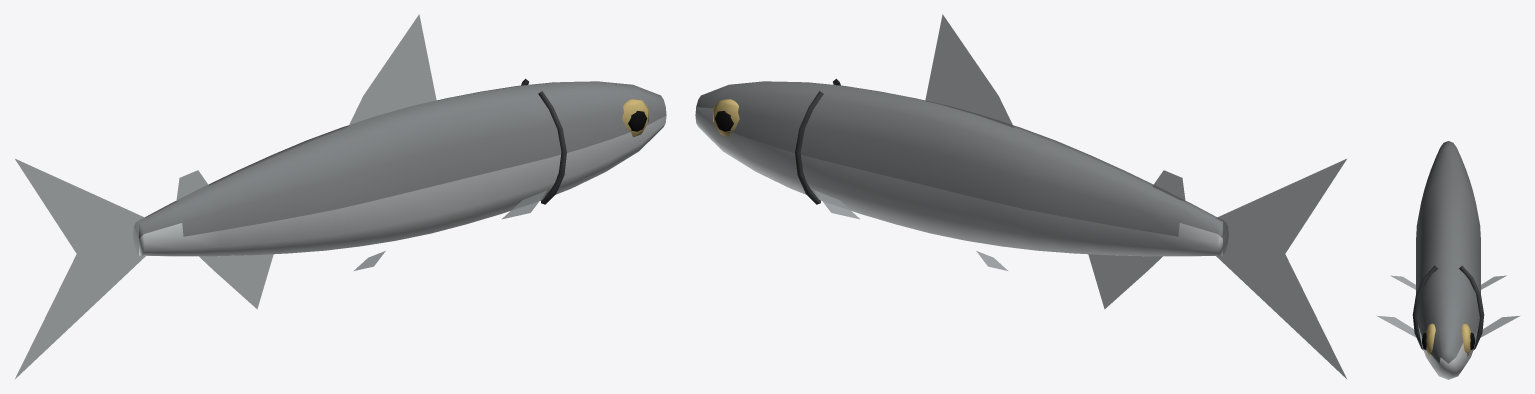
The model's file is lake-sig-shelf-1.glb.
The picture shows the model from 3 angles, left to right: view 1: azimuth 30°, elevation 25°; view 2: azimuth 150°, elevation 25°; view 3: azimuth 270°, elevation 25°; orthographic projection. The views are drawn at different scales.
Visible parts, largest first — view 1: lake-sig-shelf-1; view 2: lake-sig-shelf-1; view 3: lake-sig-shelf-1.
Part boxes in pixels (bbox=[...]): lake-sig-shelf-1: bbox=[15, 14, 666, 378]; lake-sig-shelf-1: bbox=[695, 14, 1346, 378]; lake-sig-shelf-1: bbox=[1376, 141, 1520, 379].
Bounding box in the file's own units: 0.4152 × 0.1639 × 0.0982.
